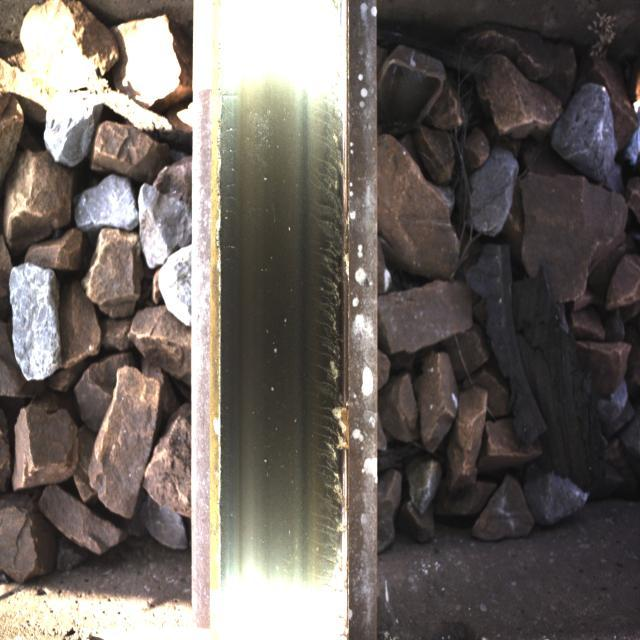normal: (226, 41, 322, 559)
